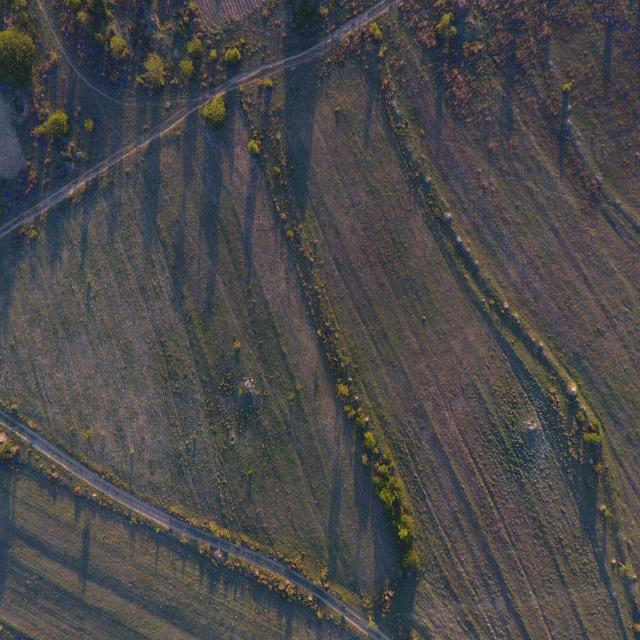boundaries: (24, 71, 435, 633), (349, 13, 636, 603)
